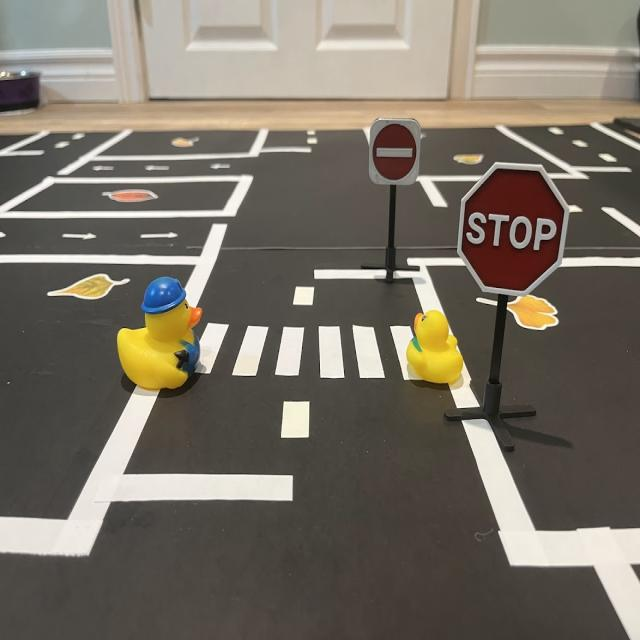duck_regular: (408, 307, 467, 386)
duck_specialty: (117, 278, 203, 393)
road_crosswalk: (194, 315, 439, 389)
road_oneway: (137, 227, 181, 243), (61, 228, 101, 244), (87, 163, 121, 175), (141, 164, 175, 175), (208, 162, 237, 172)
sign_noentry: (371, 114, 424, 186)
sign_stop: (458, 164, 571, 293)
